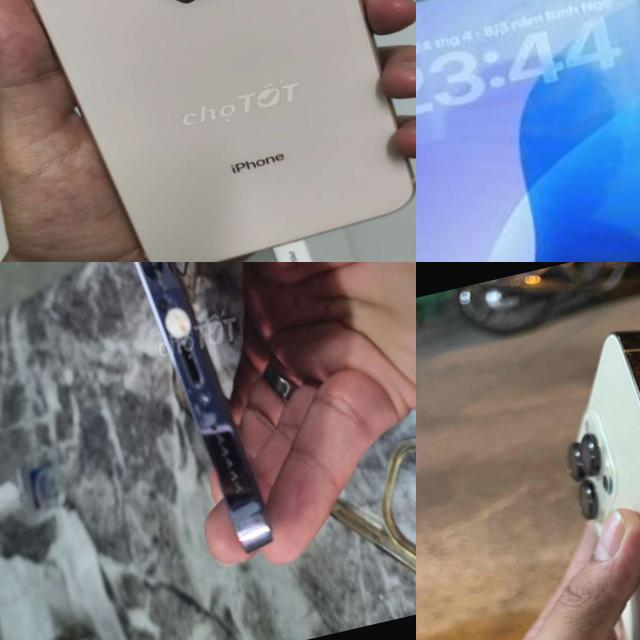gen_11: (416, 0, 640, 262)
gen_12_13: (88, 262, 286, 576)
gen_14: (521, 300, 640, 640)
gen_7_8: (0, 0, 416, 262)
scratch: (623, 334, 640, 389)
